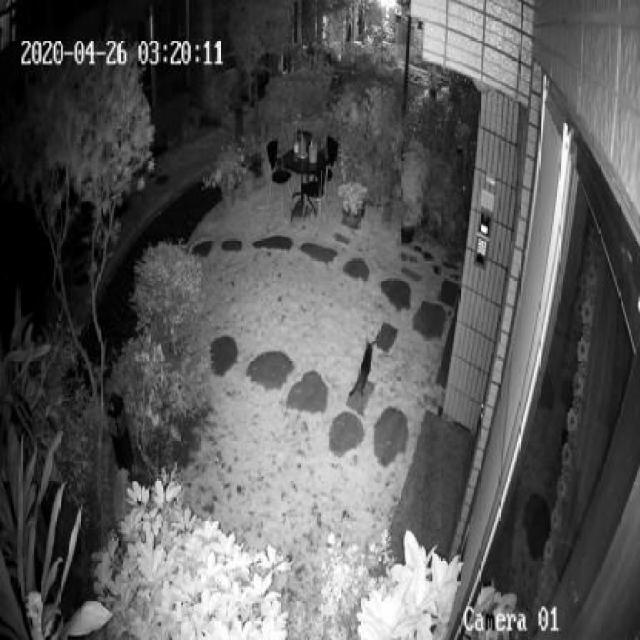animals: (337, 334, 378, 406)
